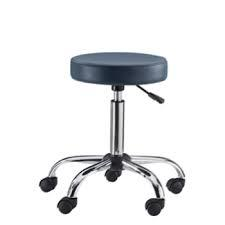stool: (38, 51, 186, 216)
